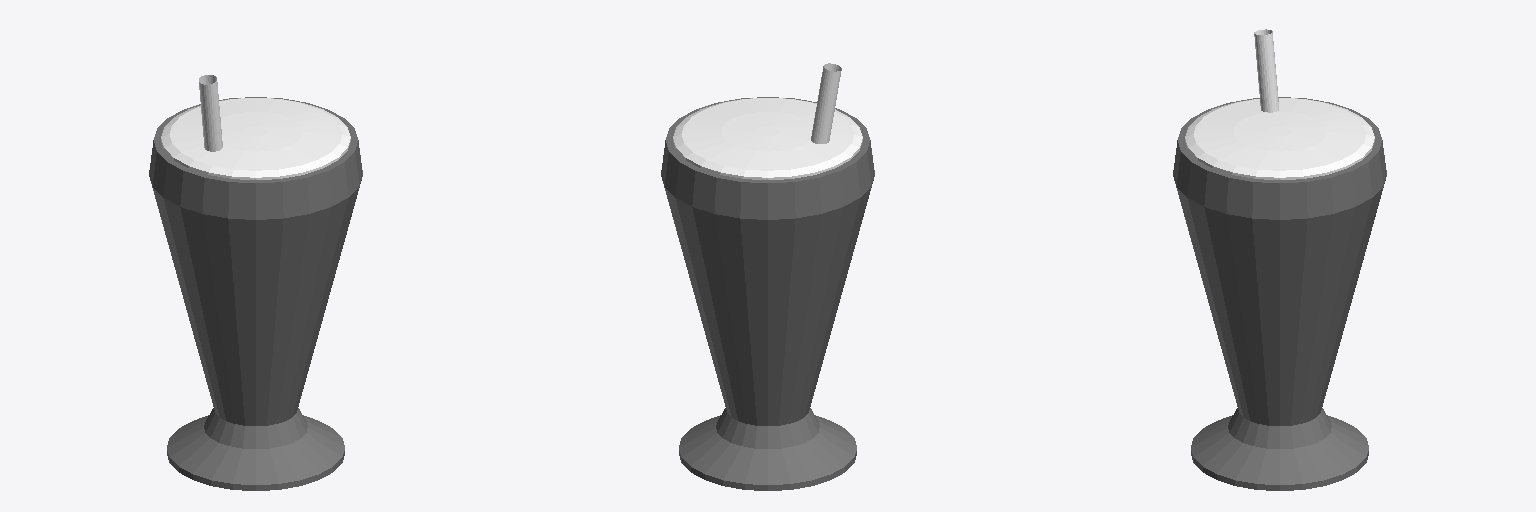
Rendered from milk_shake.obj.
3 views of the same model, side by side, from view 1: azimuth 30°, elevation 25°; view 2: azimuth 150°, elevation 25°; view 3: azimuth 270°, elevation 25° (orthographic).
Parts seen in each view (by area): view 1: Mesh1 Group2 Group1 Untitled1 Model, Mesh2 Group3 Group1 Untitled1 Model, Mesh3 Group4 Group1 Untitled1 Model; view 2: Mesh1 Group2 Group1 Untitled1 Model, Mesh2 Group3 Group1 Untitled1 Model, Mesh3 Group4 Group1 Untitled1 Model; view 3: Mesh1 Group2 Group1 Untitled1 Model, Mesh2 Group3 Group1 Untitled1 Model, Mesh3 Group4 Group1 Untitled1 Model.
Boxes of the visible parts, x1=… form: Mesh1 Group2 Group1 Untitled1 Model: x1=149, y1=97, x2=362, y2=490; Mesh2 Group3 Group1 Untitled1 Model: x1=161, y1=98, x2=350, y2=179; Mesh3 Group4 Group1 Untitled1 Model: x1=199, y1=75, x2=222, y2=151; Mesh1 Group2 Group1 Untitled1 Model: x1=661, y1=97, x2=874, y2=490; Mesh2 Group3 Group1 Untitled1 Model: x1=673, y1=98, x2=862, y2=179; Mesh3 Group4 Group1 Untitled1 Model: x1=811, y1=63, x2=841, y2=143; Mesh1 Group2 Group1 Untitled1 Model: x1=1173, y1=97, x2=1386, y2=490; Mesh2 Group3 Group1 Untitled1 Model: x1=1185, y1=98, x2=1374, y2=179; Mesh3 Group4 Group1 Untitled1 Model: x1=1254, y1=29, x2=1278, y2=112.
Size of the model in its own units: 4.35 by 8.85 by 4.35.